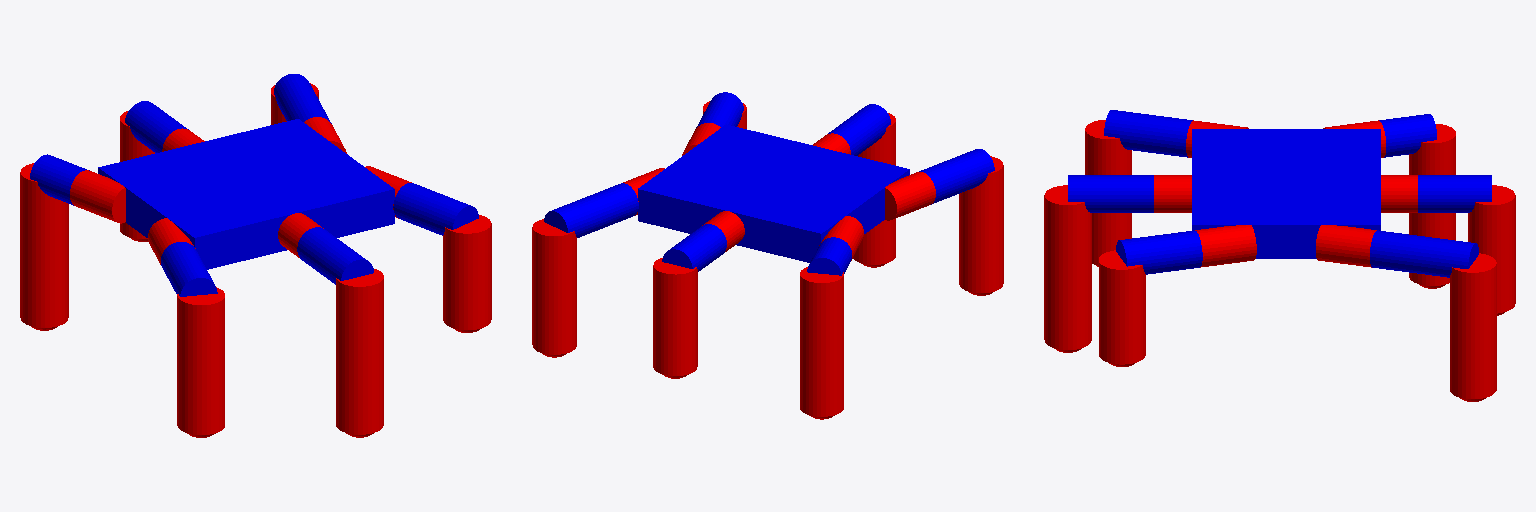
--- Facts derived from the render (not from the file) ---
Views: 3 orthographic renders of the robot side by side, from view 1: azimuth 30°, elevation 25°; view 2: azimuth 150°, elevation 25°; view 3: azimuth 270°, elevation 25°.
Model pexod with 19 links and 18 joints (18 revolute), rooted at base_link, posed every joint at zero.
Links seen in each view (by area): view 1: base_link, leg_4_3, leg_0_3, leg_5_3, leg_3_3, leg_3_2, leg_4_2, leg_0_1, leg_5_2, leg_2_2, leg_1_2, leg_0_2 (+5 smaller); view 2: base_link, leg_0_3, leg_2_3, leg_5_3, leg_1_3, leg_2_2, leg_4_3, leg_5_2, leg_1_2, leg_5_1, leg_4_2, leg_0_2 (+3 smaller); view 3: base_link, leg_4_3, leg_2_3, leg_3_3, leg_1_3, leg_2_2, leg_5_3, leg_0_3, leg_4_2, leg_5_2, leg_3_2, leg_1_2 (+5 smaller).
Boxes of the visible links, left/top/right/bottom form: base_link: left=98, top=119, right=394, bottom=269; leg_4_3: left=336, top=269, right=383, bottom=437; leg_0_3: left=20, top=163, right=68, bottom=330; leg_5_3: left=177, top=287, right=224, bottom=437; leg_3_3: left=443, top=215, right=491, bottom=332; leg_3_2: left=393, top=183, right=478, bottom=235; leg_4_2: left=297, top=227, right=373, bottom=284; leg_0_1: left=70, top=170, right=125, bottom=223; leg_5_2: left=161, top=242, right=217, bottom=296; leg_2_2: left=274, top=74, right=331, bottom=123; leg_1_2: left=125, top=101, right=188, bottom=152; leg_0_2: left=30, top=154, right=89, bottom=205; base_link: left=638, top=124, right=909, bottom=262; leg_0_3: left=800, top=267, right=843, bottom=419; leg_2_3: left=532, top=219, right=576, bottom=357; leg_5_3: left=959, top=156, right=1003, bottom=295; leg_1_3: left=653, top=258, right=697, bottom=378; leg_2_2: left=544, top=183, right=638, bottom=237; leg_4_3: left=853, top=113, right=895, bottom=267; leg_5_2: left=919, top=149, right=994, bottom=204; leg_1_2: left=662, top=224, right=726, bottom=271; leg_5_1: left=885, top=172, right=935, bottom=220; leg_4_2: left=828, top=104, right=890, bottom=155; leg_0_2: left=807, top=237, right=851, bottom=275; base_link: left=1192, top=129, right=1380, bottom=258; leg_4_3: left=1044, top=185, right=1091, bottom=352; leg_2_3: left=1450, top=253, right=1496, bottom=401; leg_3_3: left=1099, top=250, right=1145, bottom=366; leg_1_3: left=1468, top=185, right=1515, bottom=315; leg_2_2: left=1370, top=230, right=1478, bottom=277; leg_5_3: left=1085, top=120, right=1131, bottom=266; leg_0_3: left=1409, top=124, right=1455, bottom=288; leg_4_2: left=1068, top=175, right=1153, bottom=212; leg_5_2: left=1104, top=110, right=1192, bottom=157; leg_3_2: left=1116, top=230, right=1202, bottom=274; leg_1_2: left=1418, top=175, right=1491, bottom=212.
Size in the robot's own frame: 0.3843 by 0.4988 by 0.2019 metres.
Geometry: primitives only (box / cylinder / sphere), no mesh files.

URDF robot description (pexod):
<?xml version="1.0" ?>
<!-- =================================================================================== -->
<!-- |    This document was autogenerated by xacro from pexod.xacro                    | -->
<!-- |    EDITING THIS FILE BY HAND IS NOT RECOMMENDED                                 | -->
<!-- =================================================================================== -->
<robot name="pexod" xmlns:xacro="http://www.ros.org/wiki/xacro">
  <!-- <xacro:include filename="$(find pexod_description)/urdf/pexod_control.xacro" /> -->
  <!-- MATERIALS -->
  <material name="Blue">
    <color rgba="0 0 1 1"/>
  </material>
  <material name="Red">
    <color rgba="1 0 0 1"/>
  </material>
  <material name="Green">
    <color rgba="0 1 0 1"/>
  </material>
  <material name="Yellow">
    <color rgba="1 1 0 1"/>
  </material>
  <material name="LightGrey">
    <color rgba="0.6 0.6 0.6 1.0"/>
  </material>
  <!-- END OF MATERIALS -->
  <!-- XACRO MACROS FOR VISUALS AND COLLISIONS -->
  <!-- END OF XACRO MACROS -->
  <!-- TORSO -->
  <link name="base_link">
    <visual>
      <origin rpy="0 0 0" xyz="0 0 0"/>
      <geometry>
        <box size="0.24 0.2 0.04"/>
      </geometry>
      <material name="Blue"/>
    </visual>
    <collision>
      <origin rpy="0 0 0" xyz="0 0 0"/>
      <geometry>
        <box size="0.24 0.2 0.04"/>
      </geometry>
    </collision>
    <inertial>
      <!-- CENTER OF MASS -->
      <origin rpy="0 0 0" xyz="0 0 0"/>
      <mass value="1.031"/>
      <!-- box inertia: 1/12*m(y^2+z^2), ... -->
      <inertia ixx="0.00357413333333" ixy="0" ixz="0" iyy="0.00508626666667" iyz="0" izz="0.00838546666667"/>
    </inertial>
  </link>
  <!-- XACRO MACRO FOR LEGS LINKS/JOINTS -->
  <!-- END OF LEG LINKS/JOINTS -->
  <joint name="body_leg_2" type="revolute">
    <parent link="base_link"/>
    <child link="leg_2_1"/>
    <limit effort="30.0" lower="-1.57079632679" upper="1.57079632679" velocity="7.0"/>
    <origin rpy="0 0 -0.3" xyz="0.11 0.04 0"/>
    <!-- <xacro:if value="${index == 5 or index == 4 or index == 3}">
                <axis xyz="0 0 1"/>
            </xacro:if>
            <xacro:if value="${index == 2 or index == 1 or index == 0}"> -->
    <axis xyz="0 0 1"/>
    <!-- </xacro:if> -->
    <dynamics damping="0.0"/>
  </joint>
  <link name="leg_2_1">
    <visual>
      <origin rpy="1.57079632679 0 0" xyz="0.01 0.03 0"/>
      <geometry>
        <cylinder length="0.06" radius="0.02"/>
      </geometry>
      <material name="Red"/>
    </visual>
    <collision>
      <origin rpy="1.57079632679 0 0" xyz="0.01 0.03 0"/>
      <geometry>
        <box size="0.02 0.02 0.06"/>
      </geometry>
    </collision>
    <inertial>
      <!-- CENTER OF MASS -->
      <origin rpy="1.57079632679 0 0" xyz="0.01 0.03 0"/>
      <mass value="0.02"/>
      <!-- box inertia: 1/12*m(y^2+z^2), ... -->
      <inertia ixx="6.66666666667e-06" ixy="0" ixz="0" iyy="6.66666666667e-06" iyz="0" izz="1.33333333333e-06"/>
    </inertial>
  </link>
  <joint name="leg_2_1_2" type="revolute">
    <parent link="leg_2_1"/>
    <child link="leg_2_2"/>
    <limit effort="30.0" lower="-0.78539816339" upper="0.78539816339" velocity="7.0"/>
    <origin rpy="0 0 0" xyz="0 0.06 0"/>
    <axis xyz="1 0 0"/>
    <dynamics damping="0.0"/>
  </joint>
  <link name="leg_2_2">
    <visual>
      <origin rpy="1.57079632679 0 0" xyz="0.01 0.054539004158 0"/>
      <geometry>
        <cylinder length="0.109078008316" radius="0.02"/>
      </geometry>
      <material name="Blue"/>
    </visual>
    <collision>
      <origin rpy="1.57079632679 0 0" xyz="0.01 0.054539004158 0"/>
      <geometry>
        <box size="0.02 0.02 0.109078008316"/>
      </geometry>
    </collision>
    <inertial>
      <!-- CENTER OF MASS -->
      <origin rpy="1.57079632679 0 0" xyz="0.01 0.054539004158 0"/>
      <mass value="0.184"/>
      <!-- box inertia: 1/12*m(y^2+z^2), ... -->
      <inertia ixx="0.000188569515772" ixy="0" ixz="0" iyy="0.000188569515772" iyz="0" izz="1.22666666667e-05"/>
    </inertial>
  </link>
  <joint name="leg_2_2_3" type="revolute">
    <parent link="leg_2_2"/>
    <child link="leg_2_3"/>
    <limit effort="30.0" lower="-0.78539816339" upper="0.78539816339" velocity="7.0"/>
    <origin rpy="-1.57079632679 0 0" xyz="0 0.109078008316 0"/>
    <axis xyz="-1 0 0"/>
    <dynamics damping="0.0"/>
  </joint>
  <link name="leg_2_3">
    <visual>
      <origin rpy="1.57079632679 0 0" xyz="0.0125 0.0739496372405 0"/>
      <geometry>
        <cylinder length="0.147899274481" radius="0.025"/>
      </geometry>
      <material name="Red"/>
    </visual>
    <visual>
      <origin rpy="1.57079632679 0 0" xyz="0.0125 0.135399274481 0"/>
      <geometry>
        <sphere radius="0.025"/>
      </geometry>
      <material name="Red"/>
    </visual>
    <collision>
      <origin rpy="1.57079632679 0 0" xyz="0.0125 0.0739496372405 0"/>
      <geometry>
        <box size="0.025 0.025 0.147899274481"/>
      </geometry>
    </collision>
    <collision>
      <origin rpy="1.57079632679 0 0" xyz="0.0125 0.135399274481 0"/>
      <geometry>
        <sphere radius="0.025"/>
      </geometry>
      <material name="Red"/>
    </collision>
    <inertial>
      <!-- CENTER OF MASS -->
      <origin rpy="1.57079632679 0 0" xyz="0.0125 0.0739496372405 0"/>
      <mass value="0.04"/>
      <!-- box inertia: 1/12*m(y^2+z^2), ... -->
      <inertia ixx="7.49973179734e-05" ixy="0" ixz="0" iyy="7.49973179734e-05" iyz="0" izz="4.16666666667e-06"/>
    </inertial>
  </link>
  <joint name="body_leg_3" type="revolute">
    <parent link="base_link"/>
    <child link="leg_3_1"/>
    <limit effort="30.0" lower="-1.57079632679" upper="1.57079632679" velocity="7.0"/>
    <origin rpy="0 0 0.3" xyz="0.11 -0.04 0"/>
    <!-- <xacro:if value="${index == 5 or index == 4 or index == 3}">
                <axis xyz="0 0 1"/>
            </xacro:if>
            <xacro:if value="${index == 2 or index == 1 or index == 0}"> -->
    <axis xyz="0 0 1"/>
    <!-- </xacro:if> -->
    <dynamics damping="0.0"/>
  </joint>
  <link name="leg_3_1">
    <visual>
      <origin rpy="1.57079632679 0 0" xyz="0.01 -0.03 0"/>
      <geometry>
        <cylinder length="0.06" radius="0.02"/>
      </geometry>
      <material name="Red"/>
    </visual>
    <collision>
      <origin rpy="1.57079632679 0 0" xyz="0.01 -0.03 0"/>
      <geometry>
        <box size="0.02 0.02 0.06"/>
      </geometry>
    </collision>
    <inertial>
      <!-- CENTER OF MASS -->
      <origin rpy="1.57079632679 0 0" xyz="0.01 -0.03 0"/>
      <mass value="0.02"/>
      <!-- box inertia: 1/12*m(y^2+z^2), ... -->
      <inertia ixx="6.66666666667e-06" ixy="0" ixz="0" iyy="6.66666666667e-06" iyz="0" izz="1.33333333333e-06"/>
    </inertial>
  </link>
  <joint name="leg_3_1_2" type="revolute">
    <parent link="leg_3_1"/>
    <child link="leg_3_2"/>
    <limit effort="30.0" lower="-0.78539816339" upper="0.78539816339" velocity="7.0"/>
    <origin rpy="0 0 0" xyz="0 -0.06 0"/>
    <axis xyz="-1 0 0"/>
    <dynamics damping="0.0"/>
  </joint>
  <link name="leg_3_2">
    <visual>
      <origin rpy="1.57079632679 0 0" xyz="0.01 -0.0419154213519 0"/>
      <geometry>
        <cylinder length="0.0838308427039" radius="0.02"/>
      </geometry>
      <material name="Blue"/>
    </visual>
    <collision>
      <origin rpy="1.57079632679 0 0" xyz="0.01 -0.0419154213519 0"/>
      <geometry>
        <box size="0.02 0.02 0.0838308427039"/>
      </geometry>
    </collision>
    <inertial>
      <!-- CENTER OF MASS -->
      <origin rpy="1.57079632679 0 0" xyz="0.01 -0.0419154213519 0"/>
      <mass value="0.184"/>
      <!-- box inertia: 1/12*m(y^2+z^2), ... -->
      <inertia ixx="0.00011389002289" ixy="0" ixz="0" iyy="0.00011389002289" iyz="0" izz="1.22666666667e-05"/>
    </inertial>
  </link>
  <joint name="leg_3_2_3" type="revolute">
    <parent link="leg_3_2"/>
    <child link="leg_3_3"/>
    <limit effort="30.0" lower="-0.78539816339" upper="0.78539816339" velocity="7.0"/>
    <origin rpy="1.57079632679 0 0" xyz="0 -0.0838308427039 0"/>
    <axis xyz="1 0 0"/>
    <dynamics damping="0.0"/>
  </joint>
  <link name="leg_3_3">
    <visual>
      <origin rpy="1.57079632679 0 0" xyz="0.0125 -0.0553391333595 0"/>
      <geometry>
        <cylinder length="0.110678266719" radius="0.025"/>
      </geometry>
      <material name="Red"/>
    </visual>
    <visual>
      <origin rpy="1.57079632679 0 0" xyz="0.0125 -0.098178266719 0"/>
      <geometry>
        <sphere radius="0.025"/>
      </geometry>
      <material name="Red"/>
    </visual>
    <collision>
      <origin rpy="1.57079632679 0 0" xyz="0.0125 -0.0553391333595 0"/>
      <geometry>
        <box size="0.025 0.025 0.110678266719"/>
      </geometry>
    </collision>
    <collision>
      <origin rpy="1.57079632679 0 0" xyz="0.0125 -0.098178266719 0"/>
      <geometry>
        <sphere radius="0.025"/>
      </geometry>
      <material name="Red"/>
    </collision>
    <inertial>
      <!-- CENTER OF MASS -->
      <origin rpy="1.57079632679 0 0" xyz="0.0125 -0.0553391333595 0"/>
      <mass value="0.04"/>
      <!-- box inertia: 1/12*m(y^2+z^2), ... -->
      <inertia ixx="4.29155957464e-05" ixy="0" ixz="0" iyy="4.29155957464e-05" iyz="0" izz="4.16666666667e-06"/>
    </inertial>
  </link>
  <joint name="body_leg_0" type="revolute">
    <parent link="base_link"/>
    <child link="leg_0_1"/>
    <limit effort="30.0" lower="-1.57079632679" upper="1.57079632679" velocity="7.0"/>
    <origin rpy="0 0 0.3" xyz="-0.13 0.04 0"/>
    <!-- <xacro:if value="${index == 5 or index == 4 or index == 3}">
                <axis xyz="0 0 1"/>
            </xacro:if>
            <xacro:if value="${index == 2 or index == 1 or index == 0}"> -->
    <axis xyz="0 0 1"/>
    <!-- </xacro:if> -->
    <dynamics damping="0.0"/>
  </joint>
  <link name="leg_0_1">
    <visual>
      <origin rpy="1.57079632679 0 0" xyz="0.01 0.03 0"/>
      <geometry>
        <cylinder length="0.06" radius="0.02"/>
      </geometry>
      <material name="Red"/>
    </visual>
    <collision>
      <origin rpy="1.57079632679 0 0" xyz="0.01 0.03 0"/>
      <geometry>
        <box size="0.02 0.02 0.06"/>
      </geometry>
    </collision>
    <inertial>
      <!-- CENTER OF MASS -->
      <origin rpy="1.57079632679 0 0" xyz="0.01 0.03 0"/>
      <mass value="0.02"/>
      <!-- box inertia: 1/12*m(y^2+z^2), ... -->
      <inertia ixx="6.66666666667e-06" ixy="0" ixz="0" iyy="6.66666666667e-06" iyz="0" izz="1.33333333333e-06"/>
    </inertial>
  </link>
  <joint name="leg_0_1_2" type="revolute">
    <parent link="leg_0_1"/>
    <child link="leg_0_2"/>
    <limit effort="30.0" lower="-0.78539816339" upper="0.78539816339" velocity="7.0"/>
    <origin rpy="0 0 0" xyz="0 0.06 0"/>
    <axis xyz="1 0 0"/>
    <dynamics damping="0.0"/>
  </joint>
  <link name="leg_0_2">
    <visual>
      <origin rpy="1.57079632679 0 0" xyz="0.01 0.0282681863092 0"/>
      <geometry>
        <cylinder length="0.0565363726184" radius="0.02"/>
      </geometry>
      <material name="Blue"/>
    </visual>
    <collision>
      <origin rpy="1.57079632679 0 0" xyz="0.01 0.0282681863092 0"/>
      <geometry>
        <box size="0.02 0.02 0.0565363726184"/>
      </geometry>
    </collision>
    <inertial>
      <!-- CENTER OF MASS -->
      <origin rpy="1.57079632679 0 0" xyz="0.01 0.0282681863092 0"/>
      <mass value="0.184"/>
      <!-- box inertia: 1/12*m(y^2+z^2), ... -->
      <inertia ixx="5.51442085756e-05" ixy="0" ixz="0" iyy="5.51442085756e-05" iyz="0" izz="1.22666666667e-05"/>
    </inertial>
  </link>
  <joint name="leg_0_2_3" type="revolute">
    <parent link="leg_0_2"/>
    <child link="leg_0_3"/>
    <limit effort="30.0" lower="-0.78539816339" upper="0.78539816339" velocity="7.0"/>
    <origin rpy="-1.57079632679 0 0" xyz="0 0.0565363726184 0"/>
    <axis xyz="-1 0 0"/>
    <dynamics damping="0.0"/>
  </joint>
  <link name="leg_0_3">
    <visual>
      <origin rpy="1.57079632679 0 0" xyz="0.0125 0.0834181348425 0"/>
      <geometry>
        <cylinder length="0.166836269685" radius="0.025"/>
      </geometry>
      <material name="Red"/>
    </visual>
    <visual>
      <origin rpy="1.57079632679 0 0" xyz="0.0125 0.154336269685 0"/>
      <geometry>
        <sphere radius="0.025"/>
      </geometry>
      <material name="Red"/>
    </visual>
    <collision>
      <origin rpy="1.57079632679 0 0" xyz="0.0125 0.0834181348425 0"/>
      <geometry>
        <box size="0.025 0.025 0.166836269685"/>
      </geometry>
    </collision>
    <collision>
      <origin rpy="1.57079632679 0 0" xyz="0.0125 0.154336269685 0"/>
      <geometry>
        <sphere radius="0.025"/>
      </geometry>
      <material name="Red"/>
    </collision>
    <inertial>
      <!-- CENTER OF MASS -->
      <origin rpy="1.57079632679 0 0" xyz="0.0125 0.0834181348425 0"/>
      <mass value="0.04"/>
      <!-- box inertia: 1/12*m(y^2+z^2), ... -->
      <inertia ixx="9.4864469608e-05" ixy="0" ixz="0" iyy="9.4864469608e-05" iyz="0" izz="4.16666666667e-06"/>
    </inertial>
  </link>
  <joint name="body_leg_5" type="revolute">
    <parent link="base_link"/>
    <child link="leg_5_1"/>
    <limit effort="30.0" lower="-1.57079632679" upper="1.57079632679" velocity="7.0"/>
    <origin rpy="0 0 -0.3" xyz="-0.13 -0.04 0"/>
    <!-- <xacro:if value="${index == 5 or index == 4 or index == 3}">
                <axis xyz="0 0 1"/>
            </xacro:if>
            <xacro:if value="${index == 2 or index == 1 or index == 0}"> -->
    <axis xyz="0 0 1"/>
    <!-- </xacro:if> -->
    <dynamics damping="0.0"/>
  </joint>
  <link name="leg_5_1">
    <visual>
      <origin rpy="1.57079632679 0 0" xyz="0.01 -0.03 0"/>
      <geometry>
        <cylinder length="0.06" radius="0.02"/>
      </geometry>
      <material name="Red"/>
    </visual>
    <collision>
      <origin rpy="1.57079632679 0 0" xyz="0.01 -0.03 0"/>
      <geometry>
        <box size="0.02 0.02 0.06"/>
      </geometry>
    </collision>
    <inertial>
      <!-- CENTER OF MASS -->
      <origin rpy="1.57079632679 0 0" xyz="0.01 -0.03 0"/>
      <mass value="0.02"/>
      <!-- box inertia: 1/12*m(y^2+z^2), ... -->
      <inertia ixx="6.66666666667e-06" ixy="0" ixz="0" iyy="6.66666666667e-06" iyz="0" izz="1.33333333333e-06"/>
    </inertial>
  </link>
  <joint name="leg_5_1_2" type="revolute">
    <parent link="leg_5_1"/>
    <child link="leg_5_2"/>
    <limit effort="30.0" lower="-0.78539816339" upper="0.78539816339" velocity="7.0"/>
    <origin rpy="0 0 0" xyz="0 -0.06 0"/>
    <axis xyz="-1 0 0"/>
    <dynamics damping="0.0"/>
  </joint>
  <link name="leg_5_2">
    <visual>
      <origin rpy="1.57079632679 0 0" xyz="0.01 -0.0454235527982 0"/>
      <geometry>
        <cylinder length="0.0908471055964" radius="0.02"/>
      </geometry>
      <material name="Blue"/>
    </visual>
    <collision>
      <origin rpy="1.57079632679 0 0" xyz="0.01 -0.0454235527982 0"/>
      <geometry>
        <box size="0.02 0.02 0.0908471055964"/>
      </geometry>
    </collision>
    <inertial>
      <!-- CENTER OF MASS -->
      <origin rpy="1.57079632679 0 0" xyz="0.01 -0.0454235527982 0"/>
      <mass value="0.184"/>
      <!-- box inertia: 1/12*m(y^2+z^2), ... -->
      <inertia ixx="0.000132682347794" ixy="0" ixz="0" iyy="0.000132682347794" iyz="0" izz="1.22666666667e-05"/>
    </inertial>
  </link>
  <joint name="leg_5_2_3" type="revolute">
    <parent link="leg_5_2"/>
    <child link="leg_5_3"/>
    <limit effort="30.0" lower="-0.78539816339" upper="0.78539816339" velocity="7.0"/>
    <origin rpy="1.57079632679 0 0" xyz="0 -0.0908471055964 0"/>
    <axis xyz="1 0 0"/>
    <dynamics damping="0.0"/>
  </joint>
  <link name="leg_5_3">
    <visual>
      <origin rpy="1.57079632679 0 0" xyz="0.0125 -0.074424580095 0"/>
      <geometry>
        <cylinder length="0.14884916019" radius="0.025"/>
      </geometry>
      <material name="Red"/>
    </visual>
    <visual>
      <origin rpy="1.57079632679 0 0" xyz="0.0125 -0.13634916019 0"/>
      <geometry>
        <sphere radius="0.025"/>
      </geometry>
      <material name="Red"/>
    </visual>
    <collision>
      <origin rpy="1.57079632679 0 0" xyz="0.0125 -0.074424580095 0"/>
      <geometry>
        <box size="0.025 0.025 0.14884916019"/>
      </geometry>
    </collision>
    <collision>
      <origin rpy="1.57079632679 0 0" xyz="0.0125 -0.13634916019 0"/>
      <geometry>
        <sphere radius="0.025"/>
      </geometry>
      <material name="Red"/>
    </collision>
    <inertial>
      <!-- CENTER OF MASS -->
      <origin rpy="1.57079632679 0 0" xyz="0.0125 -0.074424580095 0"/>
      <mass value="0.04"/>
      <!-- box inertia: 1/12*m(y^2+z^2), ... -->
      <inertia ixx="7.59369082976e-05" ixy="0" ixz="0" iyy="7.59369082976e-05" iyz="0" izz="4.16666666667e-06"/>
    </inertial>
  </link>
  <joint name="body_leg_1" type="revolute">
    <parent link="base_link"/>
    <child link="leg_1_1"/>
    <limit effort="30.0" lower="-1.57079632679" upper="1.57079632679" velocity="7.0"/>
    <origin rpy="0 0 0" xyz="-0.01 0.08 0"/>
    <!-- <xacro:if value="${index == 5 or index == 4 or index == 3}">
                <axis xyz="0 0 1"/>
            </xacro:if>
            <xacro:if value="${index == 2 or index == 1 or index == 0}"> -->
    <axis xyz="0 0 1"/>
    <!-- </xacro:if> -->
    <dynamics damping="0.0"/>
  </joint>
  <link name="leg_1_1">
    <visual>
      <origin rpy="1.57079632679 0 0" xyz="0.01 0.03 0"/>
      <geometry>
        <cylinder length="0.06" radius="0.02"/>
      </geometry>
      <material name="Red"/>
    </visual>
    <collision>
      <origin rpy="1.57079632679 0 0" xyz="0.01 0.03 0"/>
      <geometry>
        <box size="0.02 0.02 0.06"/>
      </geometry>
    </collision>
    <inertial>
      <!-- CENTER OF MASS -->
      <origin rpy="1.57079632679 0 0" xyz="0.01 0.03 0"/>
      <mass value="0.02"/>
      <!-- box inertia: 1/12*m(y^2+z^2), ... -->
      <inertia ixx="6.66666666667e-06" ixy="0" ixz="0" iyy="6.66666666667e-06" iyz="0" izz="1.33333333333e-06"/>
    </inertial>
  </link>
  <joint name="leg_1_1_2" type="revolute">
    <parent link="leg_1_1"/>
    <child link="leg_1_2"/>
    <limit effort="30.0" lower="-0.78539816339" upper="0.78539816339" velocity="7.0"/>
    <origin rpy="0 0 0" xyz="0 0.06 0"/>
    <axis xyz="1 0 0"/>
    <dynamics damping="0.0"/>
  </joint>
  <link name="leg_1_2">
    <visual>
      <origin rpy="1.57079632679 0 0" xyz="0.01 0.0389108178526 0"/>
      <geometry>
        <cylinder length="0.0778216357052" radius="0.02"/>
      </geometry>
      <material name="Blue"/>
    </visual>
    <collision>
      <origin rpy="1.57079632679 0 0" xyz="0.01 0.0389108178526 0"/>
      <geometry>
        <box size="0.02 0.02 0.0778216357052"/>
      </geometry>
    </collision>
    <inertial>
      <!-- CENTER OF MASS -->
      <origin rpy="1.57079632679 0 0" xyz="0.01 0.0389108178526 0"/>
      <mass value="0.184"/>
      <!-- box inertia: 1/12*m(y^2+z^2), ... -->
      <inertia ixx="9.89951737521e-05" ixy="0" ixz="0" iyy="9.89951737521e-05" iyz="0" izz="1.22666666667e-05"/>
    </inertial>
  </link>
  <joint name="leg_1_2_3" type="revolute">
    <parent link="leg_1_2"/>
    <child link="leg_1_3"/>
    <limit effort="30.0" lower="-0.78539816339" upper="0.78539816339" velocity="7.0"/>
    <origin rpy="-1.57079632679 0 0" xyz="0 0.0778216357052 0"/>
    <axis xyz="-1 0 0"/>
    <dynamics damping="0.0"/>
  </joint>
  <link name="leg_1_3">
    <visual>
      <origin rpy="1.57079632679 0 0" xyz="0.0125 0.063434761064 0"/>
      <geometry>
        <cylinder length="0.126869522128" radius="0.025"/>
      </geometry>
      <material name="Red"/>
    </visual>
    <visual>
      <origin rpy="1.57079632679 0 0" xyz="0.0125 0.114369522128 0"/>
      <geometry>
        <sphere radius="0.025"/>
      </geometry>
      <material name="Red"/>
    </visual>
    <collision>
      <origin rpy="1.57079632679 0 0" xyz="0.0125 0.063434761064 0"/>
      <geometry>
        <box size="0.025 0.025 0.126869522128"/>
      </geometry>
    </collision>
    <collision>
      <origin rpy="1.57079632679 0 0" xyz="0.0125 0.114369522128 0"/>
      <geometry>
        <sphere radius="0.025"/>
      </geometry>
      <material name="Red"/>
    </collision>
    <inertial>
      <!-- CENTER OF MASS -->
      <origin rpy="1.57079632679 0 0" xyz="0.0125 0.063434761064 0"/>
      <mass value="0.04"/>
      <!-- box inertia: 1/12*m(y^2+z^2), ... -->
      <inertia ixx="5.573625215e-05" ixy="0" ixz="0" iyy="5.573625215e-05" iyz="0" izz="4.16666666667e-06"/>
    </inertial>
  </link>
  <joint name="body_leg_4" type="revolute">
    <parent link="base_link"/>
    <child link="leg_4_1"/>
    <limit effort="30.0" lower="-1.57079632679" upper="1.57079632679" velocity="7.0"/>
    <origin rpy="0 0 0" xyz="-0.01 -0.08 0"/>
    <!-- <xacro:if value="${index == 5 or index == 4 or index == 3}">
                <axis xyz="0 0 1"/>
            </xacro:if>
            <xacro:if value="${index == 2 or index == 1 or index == 0}"> -->
    <axis xyz="0 0 1"/>
    <!-- </xacro:if> -->
    <dynamics damping="0.0"/>
  </joint>
  <link name="leg_4_1">
    <visual>
      <origin rpy="1.57079632679 0 0" xyz="0.01 -0.03 0"/>
      <geometry>
        <cylinder length="0.06" radius="0.02"/>
      </geometry>
      <material name="Red"/>
    </visual>
    <collision>
      <origin rpy="1.57079632679 0 0" xyz="0.01 -0.03 0"/>
      <geometry>
        <box size="0.02 0.02 0.06"/>
      </geometry>
    </collision>
    <inertial>
      <!-- CENTER OF MASS -->
      <origin rpy="1.57079632679 0 0" xyz="0.01 -0.03 0"/>
      <mass value="0.02"/>
      <!-- box inertia: 1/12*m(y^2+z^2), ... -->
      <inertia ixx="6.66666666667e-06" ixy="0" ixz="0" iyy="6.66666666667e-06" iyz="0" izz="1.33333333333e-06"/>
    </inertial>
  </link>
  <joint name="leg_4_1_2" type="revolute">
    <parent link="leg_4_1"/>
    <child link="leg_4_2"/>
    <limit effort="30.0" lower="-0.78539816339" upper="0.78539816339" velocity="7.0"/>
    <origin rpy="0 0 0" xyz="0 -0.06 0"/>
    <axis xyz="-1 0 0"/>
    <dynamics damping="0.0"/>
  </joint>
  <link name="leg_4_2">
    <visual>
      <origin rpy="1.57079632679 0 0" xyz="0.01 -0.0455001737005 0"/>
      <geometry>
        <cylinder length="0.0910003474009" radius="0.02"/>
      </geometry>
      <material name="Blue"/>
    </visual>
    <collision>
      <origin rpy="1.57079632679 0 0" xyz="0.01 -0.0455001737005 0"/>
      <geometry>
        <box size="0.02 0.02 0.0910003474009"/>
      </geometry>
    </collision>
    <inertial>
      <!-- CENTER OF MASS -->
      <origin rpy="1.57079632679 0 0" xyz="0.01 -0.0455001737005 0"/>
      <mass value="0.184"/>
      <!-- box inertia: 1/12*m(y^2+z^2), ... -->
      <inertia ixx="0.000133109636149" ixy="0" ixz="0" iyy="0.000133109636149" iyz="0" izz="1.22666666667e-05"/>
    </inertial>
  </link>
  <joint name="leg_4_2_3" type="revolute">
    <parent link="leg_4_2"/>
    <child link="leg_4_3"/>
    <limit effort="30.0" lower="-0.78539816339" upper="0.78539816339" velocity="7.0"/>
    <origin rpy="1.57079632679 0 0" xyz="0 -0.0910003474009 0"/>
    <axis xyz="1 0 0"/>
    <dynamics damping="0.0"/>
  </joint>
  <link name="leg_4_3">
    <visual>
      <origin rpy="1.57079632679 0 0" xyz="0.0125 -0.0847130976905 0"/>
      <geometry>
        <cylinder length="0.169426195381" radius="0.025"/>
      </geometry>
      <material name="Red"/>
    </visual>
    <visual>
      <origin rpy="1.57079632679 0 0" xyz="0.0125 -0.156926195381 0"/>
      <geometry>
        <sphere radius="0.025"/>
      </geometry>
      <material name="Red"/>
    </visual>
    <collision>
      <origin rpy="1.57079632679 0 0" xyz="0.0125 -0.0847130976905 0"/>
      <geometry>
        <box size="0.025 0.025 0.169426195381"/>
      </geometry>
    </collision>
    <collision>
      <origin rpy="1.57079632679 0 0" xyz="0.0125 -0.156926195381 0"/>
      <geometry>
        <sphere radius="0.025"/>
      </geometry>
      <material name="Red"/>
    </collision>
    <inertial>
      <!-- CENTER OF MASS -->
      <origin rpy="1.57079632679 0 0" xyz="0.0125 -0.0847130976905 0"/>
      <mass value="0.04"/>
      <!-- box inertia: 1/12*m(y^2+z^2), ... -->
      <inertia ixx="9.77674522709e-05" ixy="0" ixz="0" iyy="9.77674522709e-05" iyz="0" izz="4.16666666667e-06"/>
    </inertial>
  </link>
  <!-- END OF LEG LINKS/JOINTS -->
</robot>
